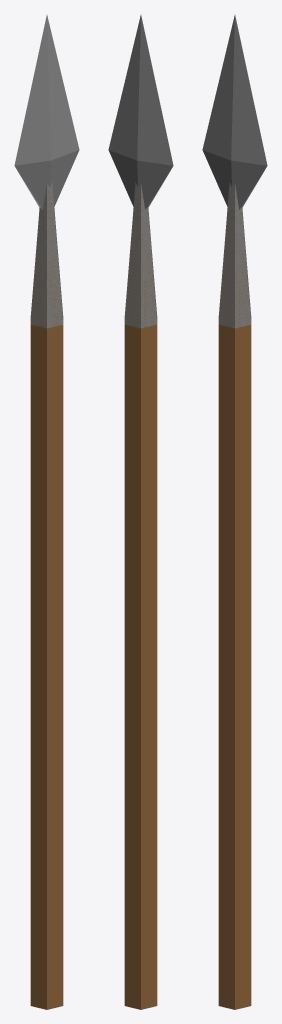
File: Spear.fbx
3 renders of one model, left to right at view 1: azimuth 30°, elevation 25°; view 2: azimuth 150°, elevation 25°; view 3: azimuth 330°, elevation 25°, orthographic.
Visible parts, largest first — view 1: Group5, Group4, Group3, Group2; view 2: Group5, Group4, Group3, Group2; view 3: Group5, Group4, Group3, Group2.
Part boxes in pixels (x1,y1,x2,y2): Group5: [30, 324, 63, 1009]; Group4: [14, 15, 79, 209]; Group3: [30, 217, 63, 328]; Group2: [39, 182, 54, 222]; Group5: [124, 324, 157, 1009]; Group4: [108, 15, 173, 209]; Group3: [124, 217, 157, 328]; Group2: [133, 182, 148, 222]; Group5: [218, 324, 251, 1009]; Group4: [202, 15, 267, 209]; Group3: [218, 217, 251, 328]; Group2: [227, 182, 242, 222].
Bounding box in the file's own units: 100 × 1450 × 43.3.
